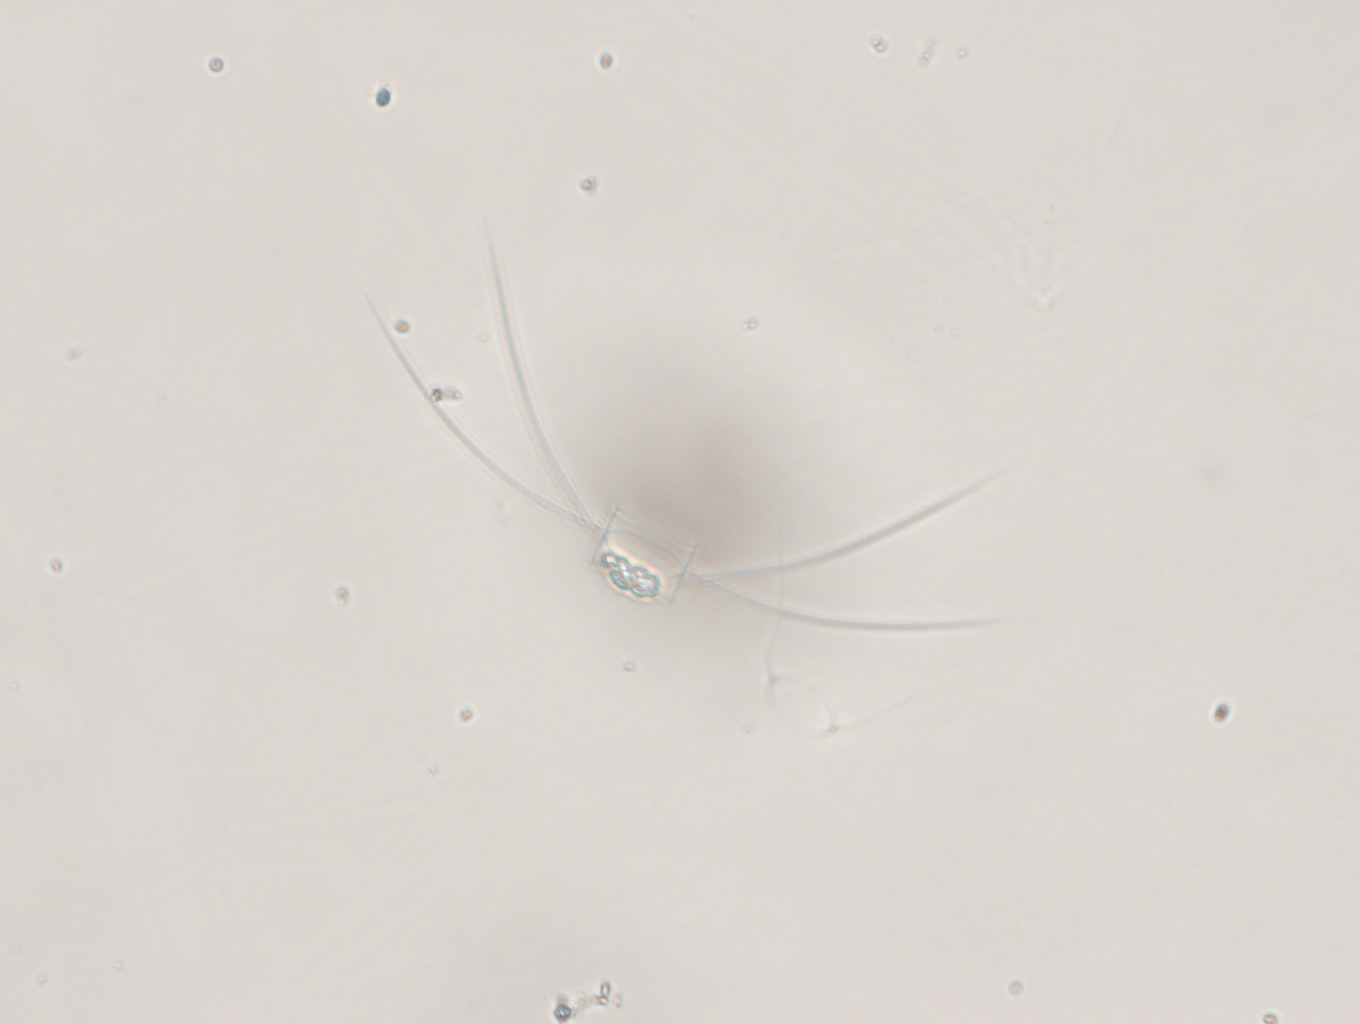chaetoceros: (366, 216, 1043, 657)
